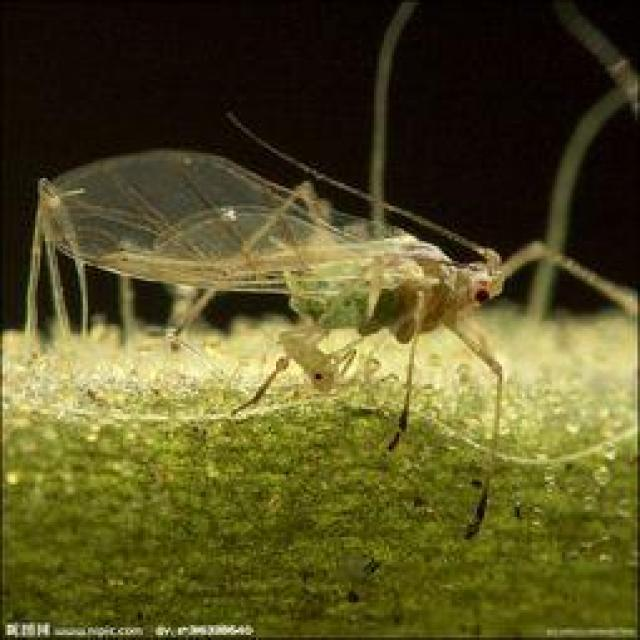Aphids: (34, 69, 616, 513)
